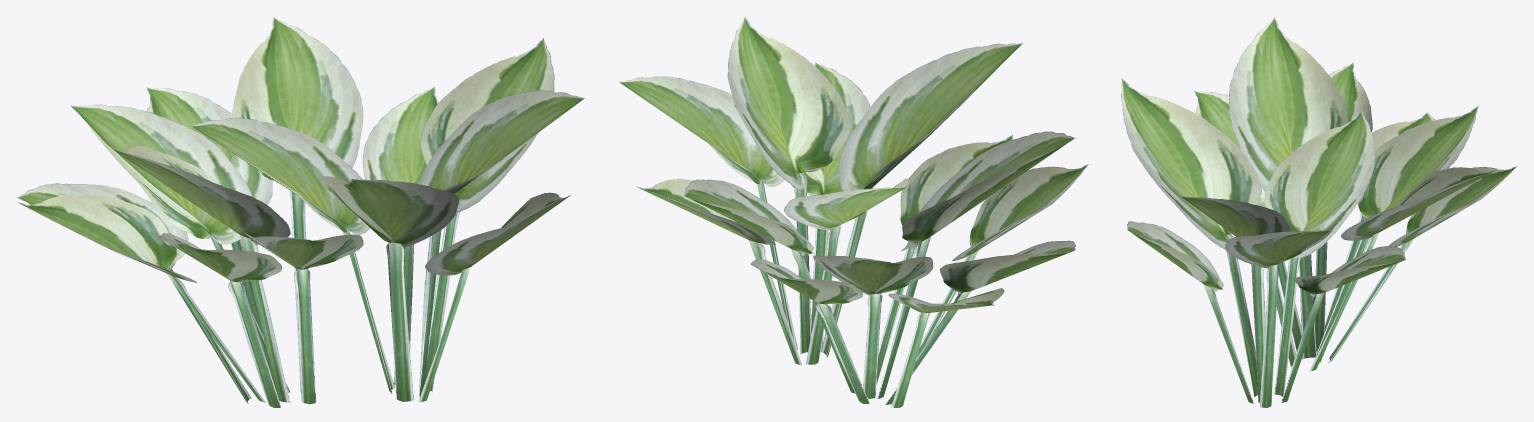
Rendered from plant_small_wg_02J.fbx.
The picture shows the model from 3 angles, left to right: view 1: azimuth 30°, elevation 25°; view 2: azimuth 150°, elevation 25°; view 3: azimuth 270°, elevation 25°; orthographic projection. The views are drawn at different scales.
Parts seen in each view (by area): view 1: plant_small_wg_02J; view 2: plant_small_wg_02J; view 3: plant_small_wg_02J.
Boxes of the visible parts, left/top/right/bottom form: plant_small_wg_02J: left=17, top=17, right=584, bottom=407; plant_small_wg_02J: left=619, top=16, right=1088, bottom=407; plant_small_wg_02J: left=1121, top=17, right=1517, bottom=407.
Bounding box in the file's own units: 87.41 × 51.08 × 69.99.
